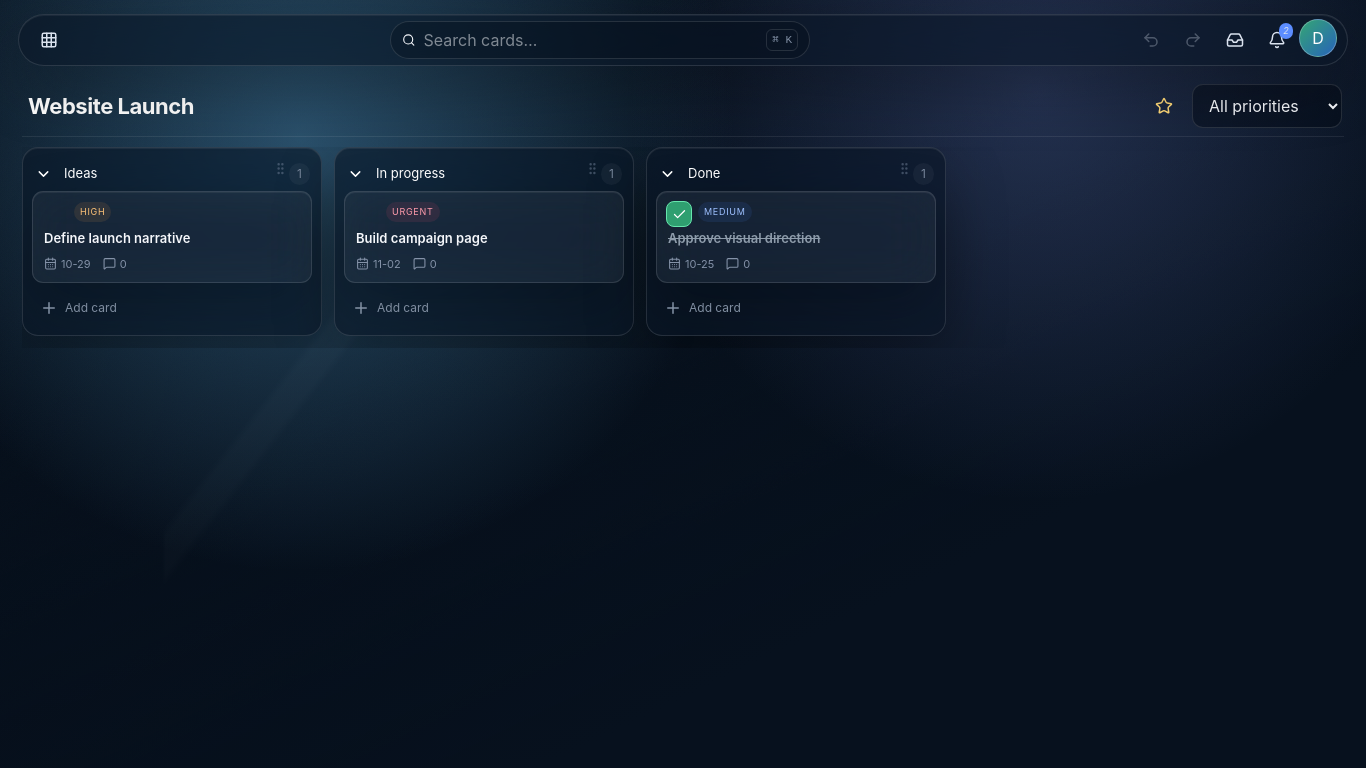
Test case: Glassboard › supports board work in the explicit test adapter
The width and height of the screenshot is (1366, 768).
Expected: the heading "Website Launch" is shown, [28, 93, 194, 119]
Click the 1st button "Add card". click: (91, 308)
box: [32, 290, 312, 326]
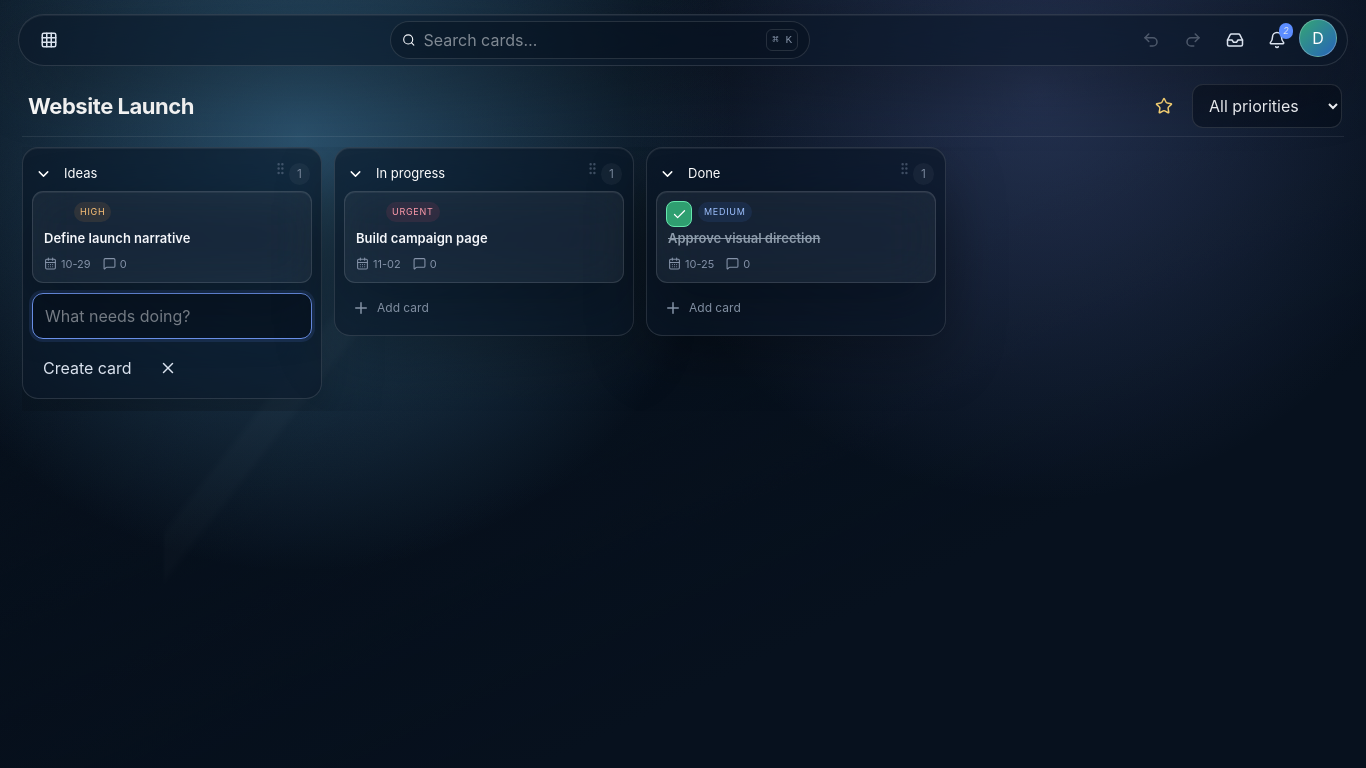
Type "Ship release" into the field named "card title". click: (172, 316)
box: [32, 293, 312, 339]
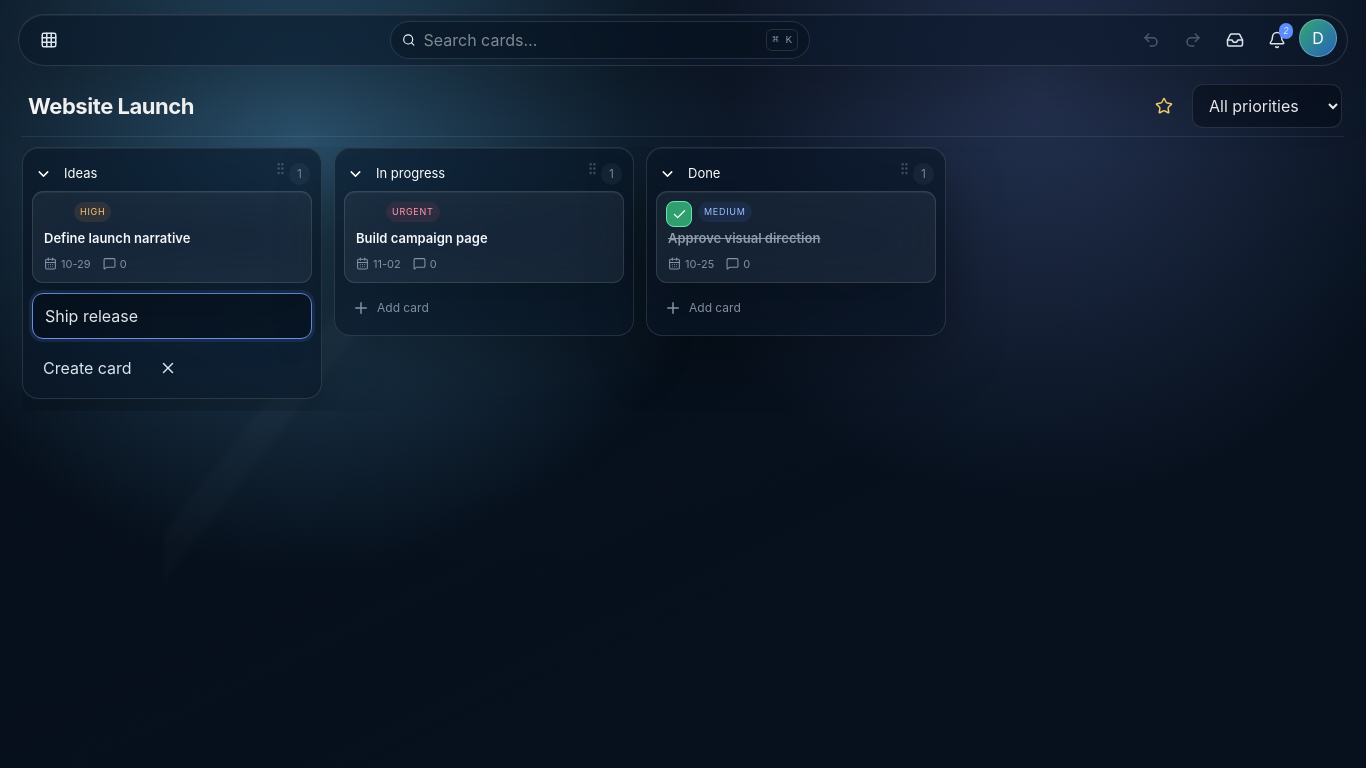
Click the button "Create card". click: (87, 368)
box: [32, 347, 143, 389]
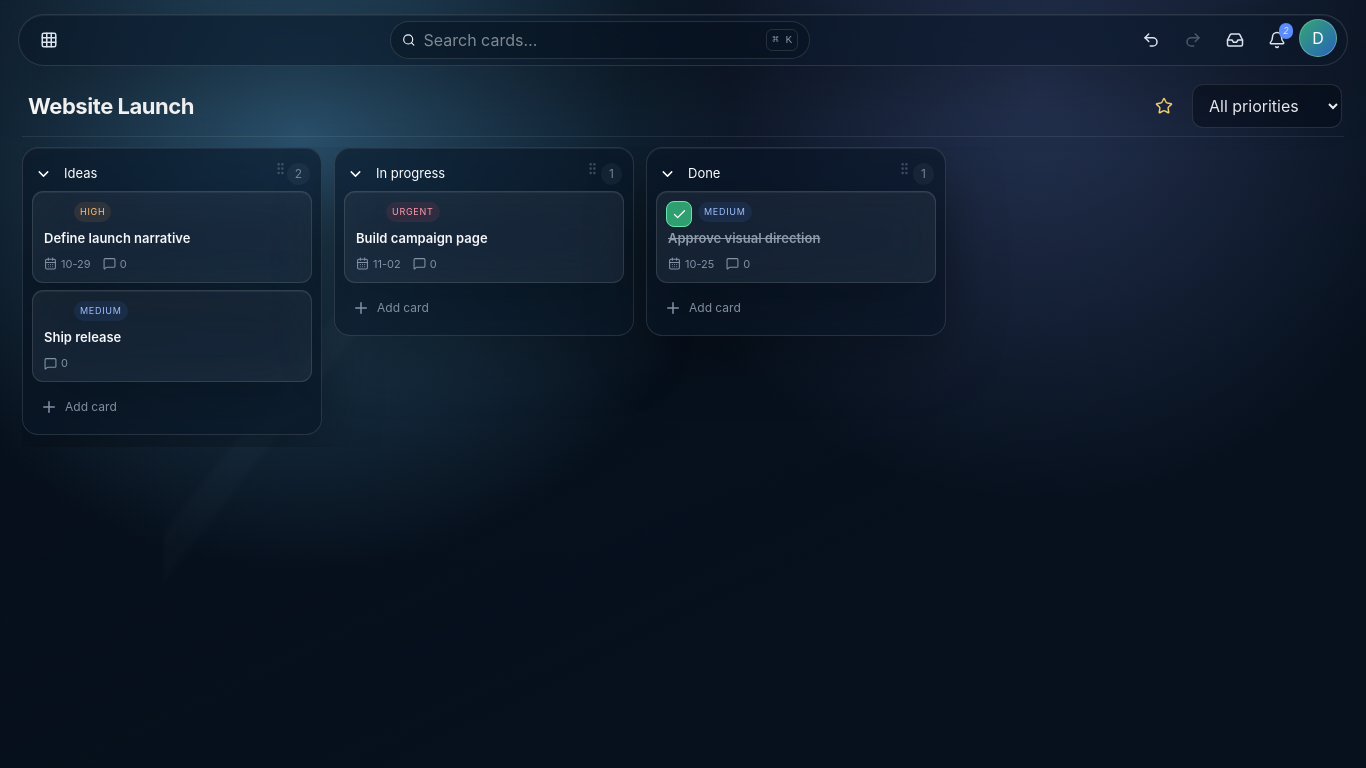
Expected: the heading "Ship release" is shown
Click the heading "Ship release". click: (83, 337)
box: [44, 329, 121, 345]
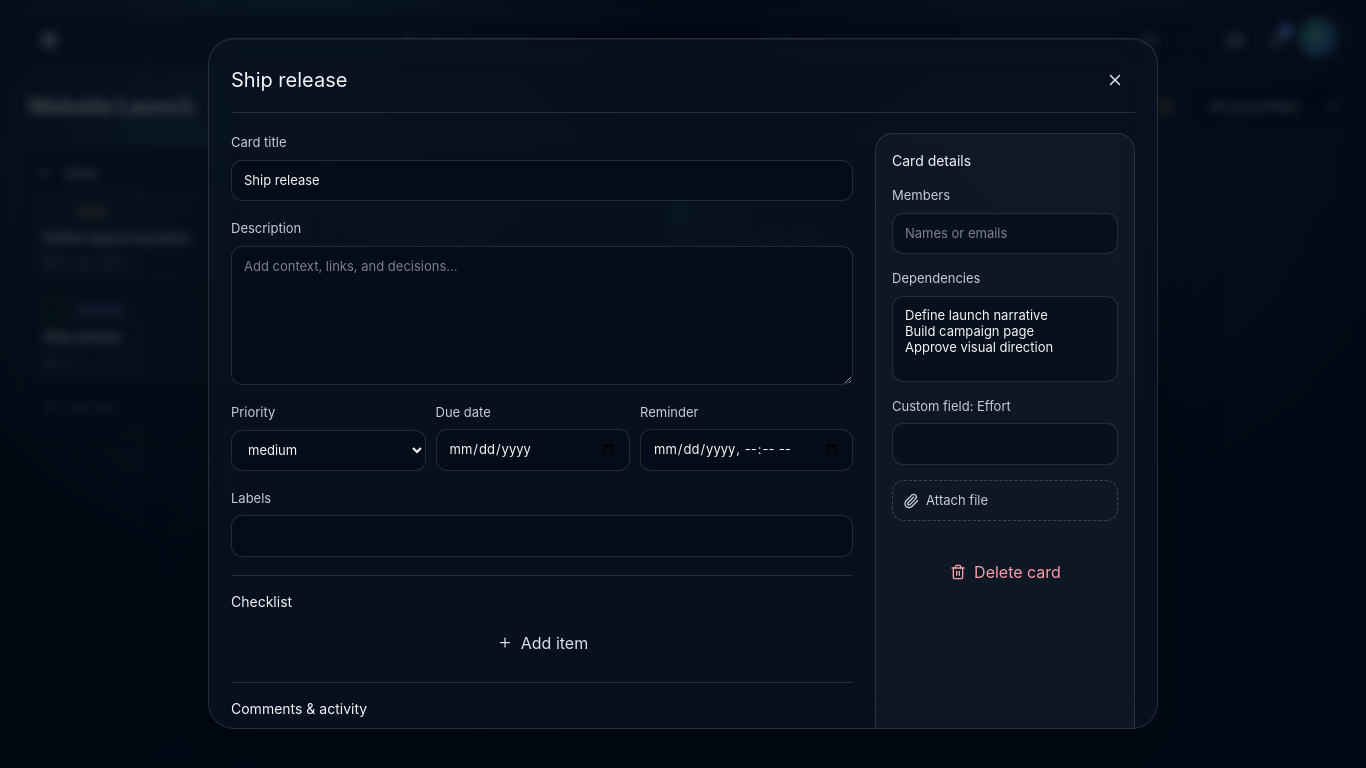
Expected: the dialog "Ship release" is shown
